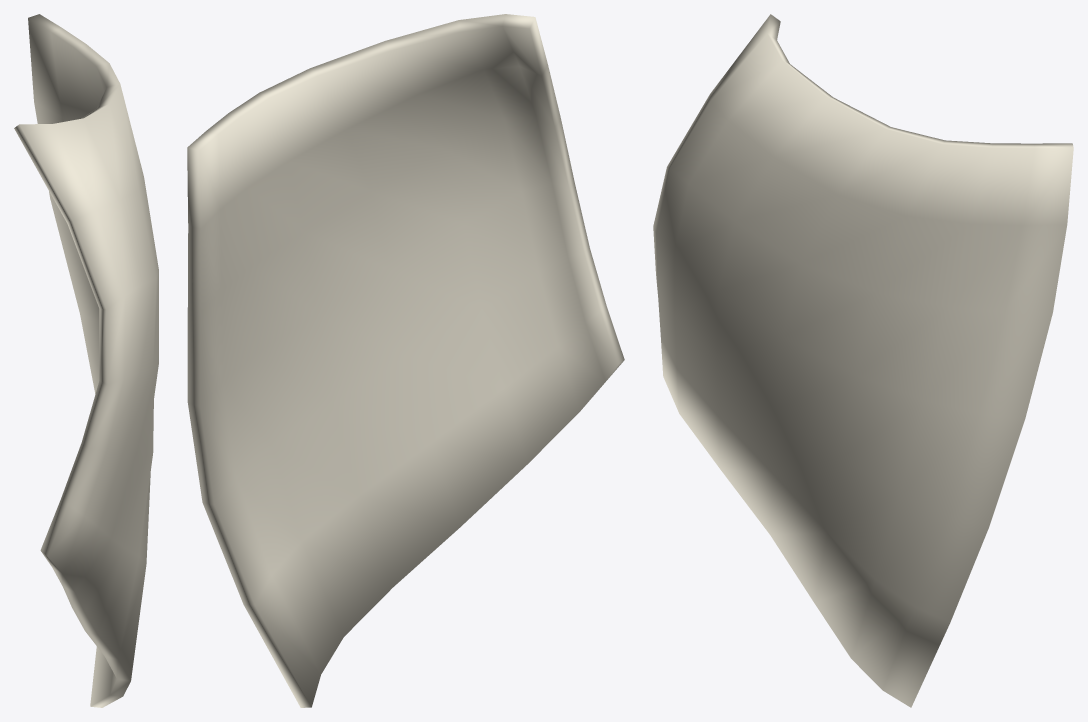
3 renders of one model, left to right at view 1: azimuth 30°, elevation 25°; view 2: azimuth 150°, elevation 25°; view 3: azimuth 270°, elevation 25°, orthographic. The views are drawn at different scales.
Parts seen in each view (by area): view 1: ZA_69dfc134de780e6f; view 2: ZA_69dfc134de780e6f; view 3: ZA_69dfc134de780e6f.
Part boxes in pixels (left/top/right/bottom): ZA_69dfc134de780e6f: left=14, top=14, right=158, bottom=707; ZA_69dfc134de780e6f: left=187, top=14, right=624, bottom=707; ZA_69dfc134de780e6f: left=653, top=14, right=1073, bottom=707.
Bounding box in the file's own units: 0.0101 × 0.0266 × 0.0163.
